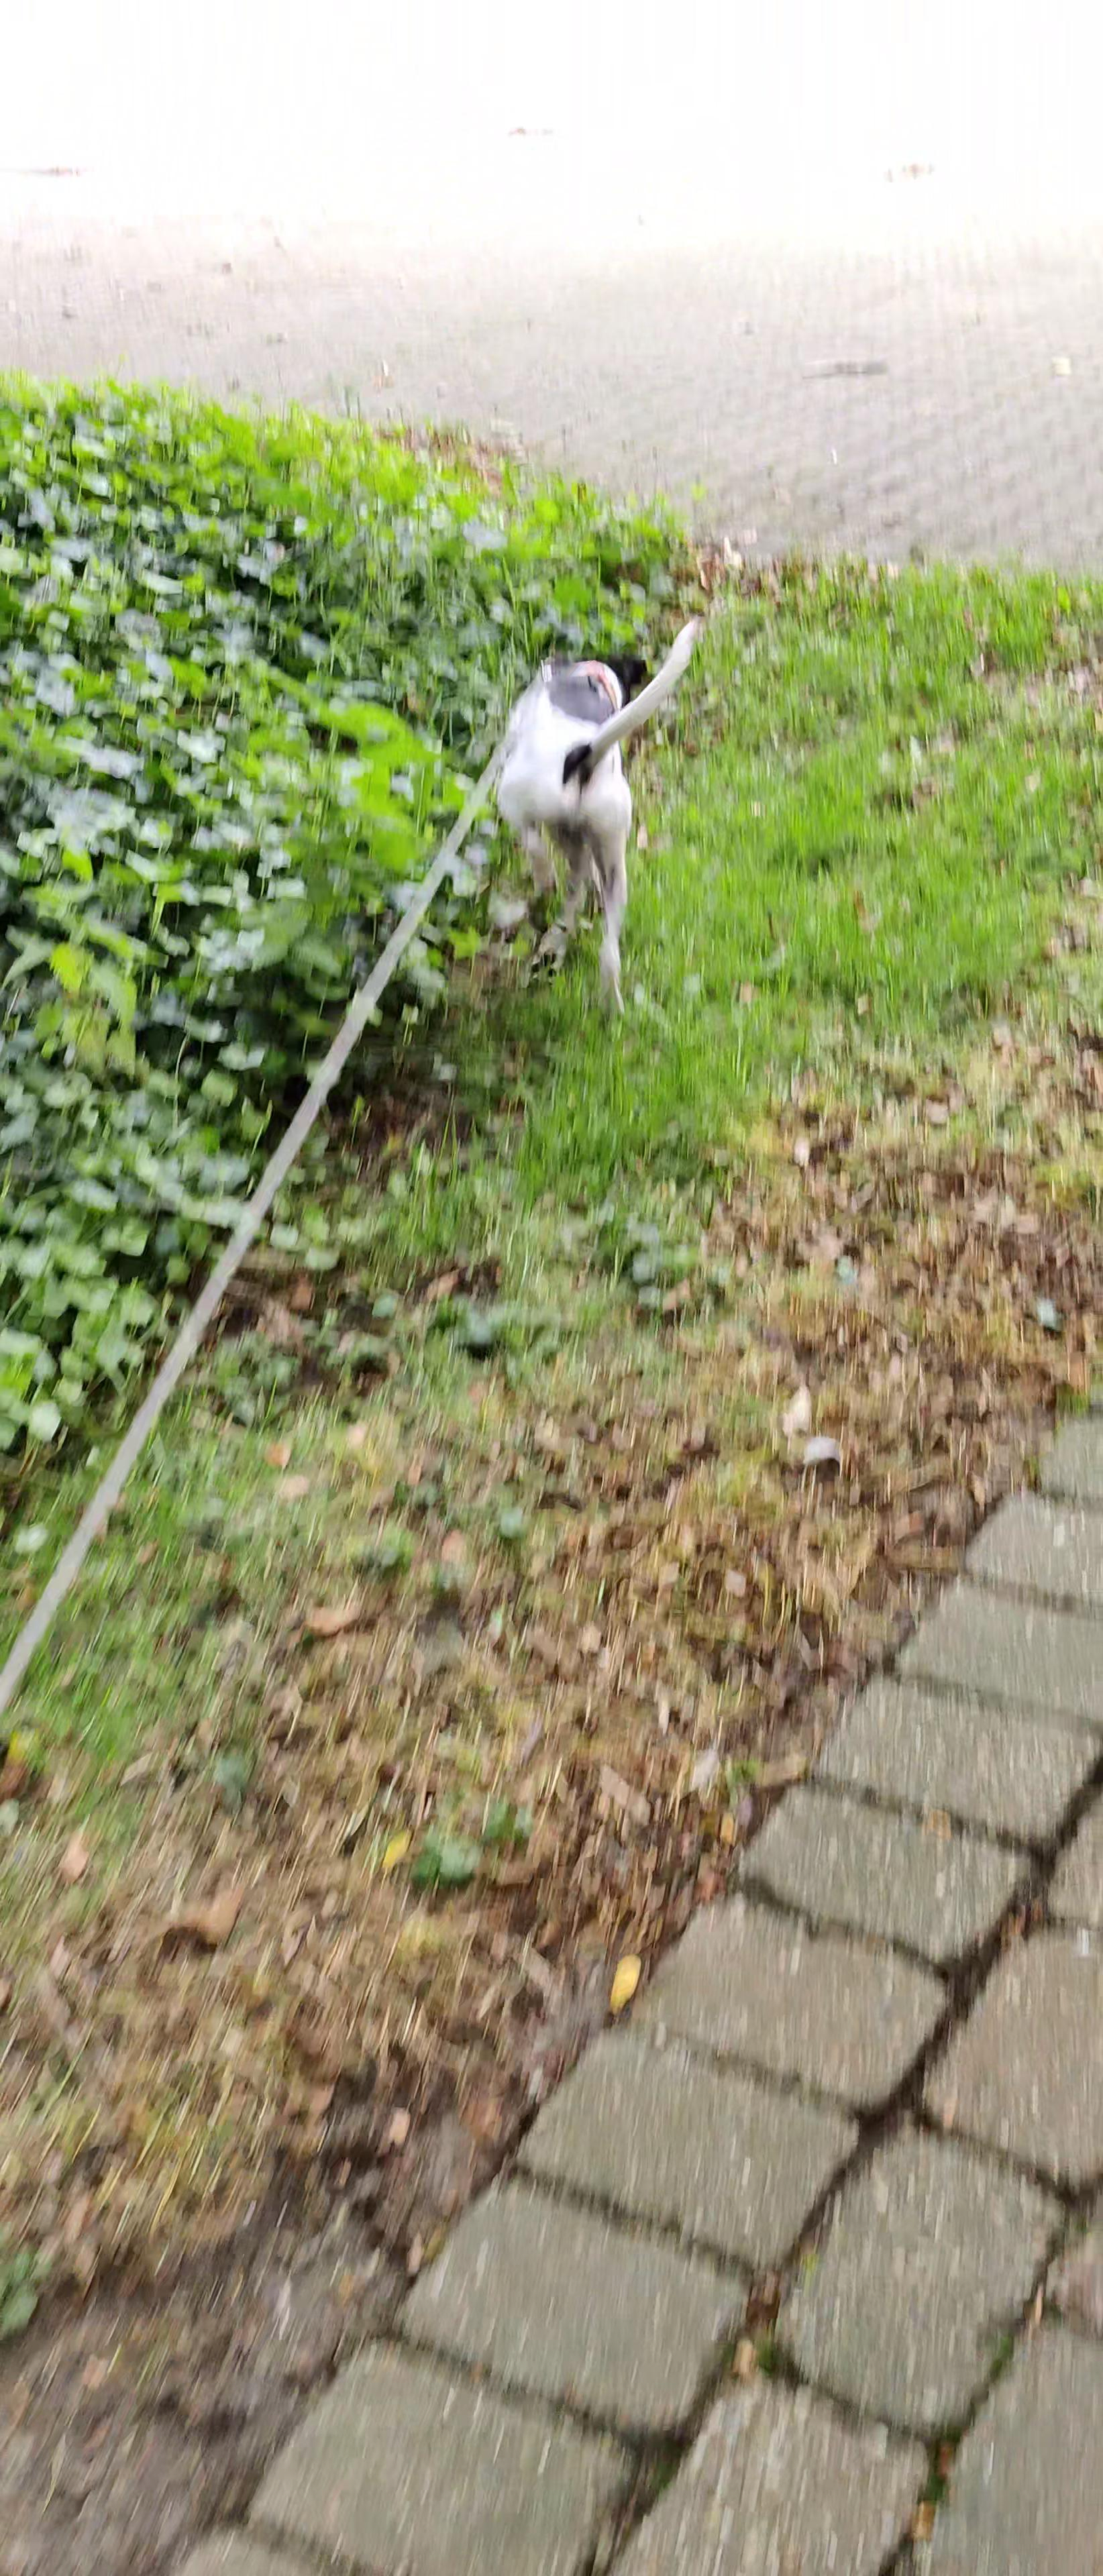Dog: (424, 608, 740, 1022)
